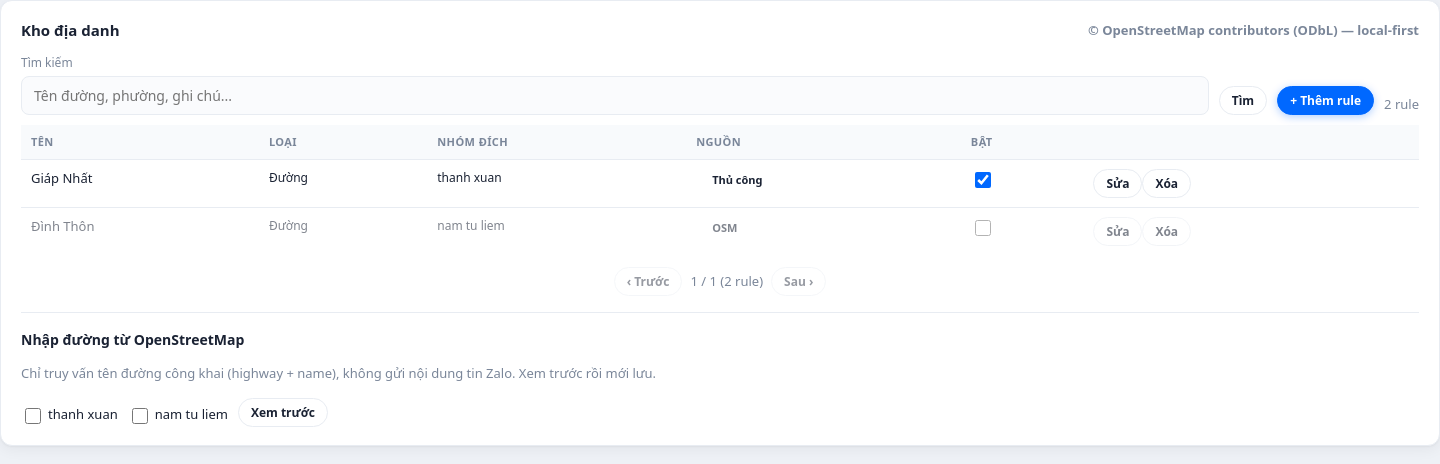
Test case: LocationRulesPanel › tìm kiếm lọc theo tên
Check: the text "Giáp Nhất" is shown, box [21,160,259,208]
Type "Đình" into the field with placeholder "Tên đường, phường, ghi chú..." at (615, 95), box [21,76,1209,114]
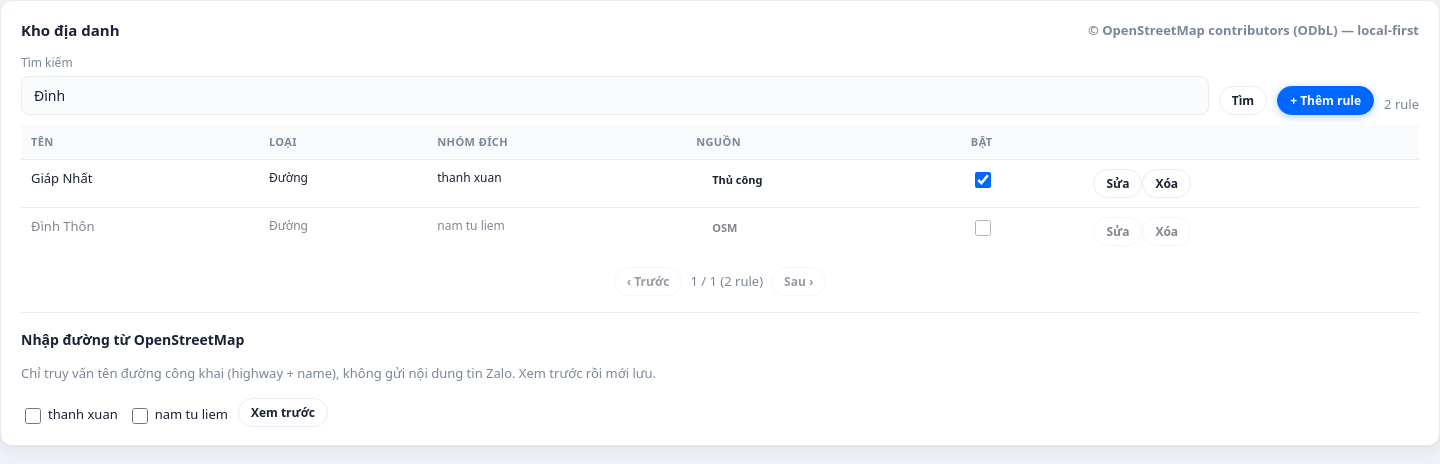
Click the button "Tìm" at (1243, 100), box [1219,86,1267,114]
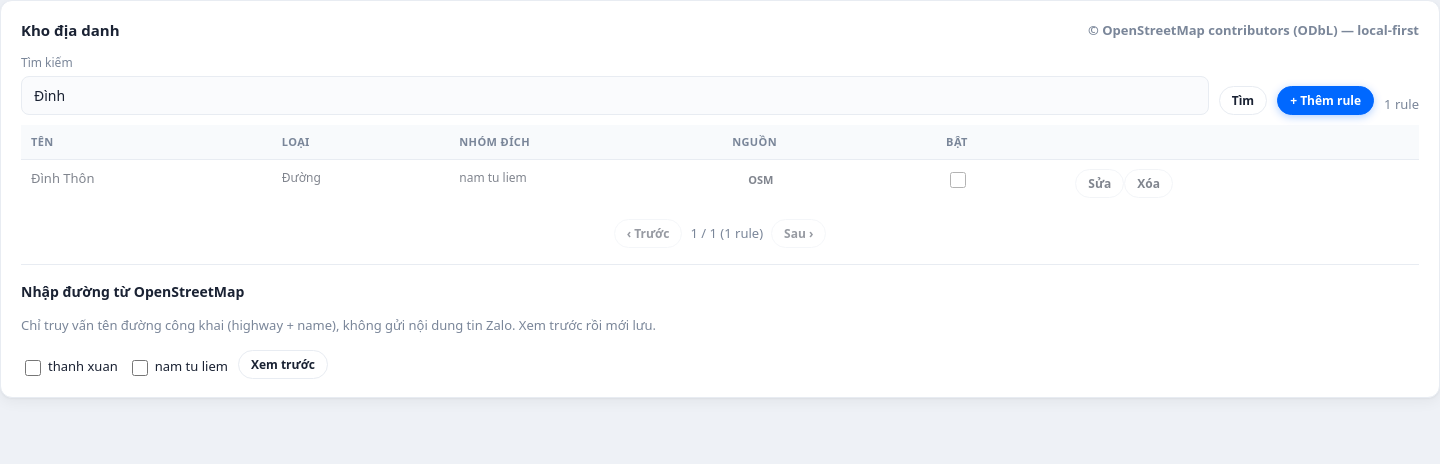
Check: the text "Đình Thôn" is shown, box [21,160,272,207]
Check: the text "Giáp Nhất" is gone
